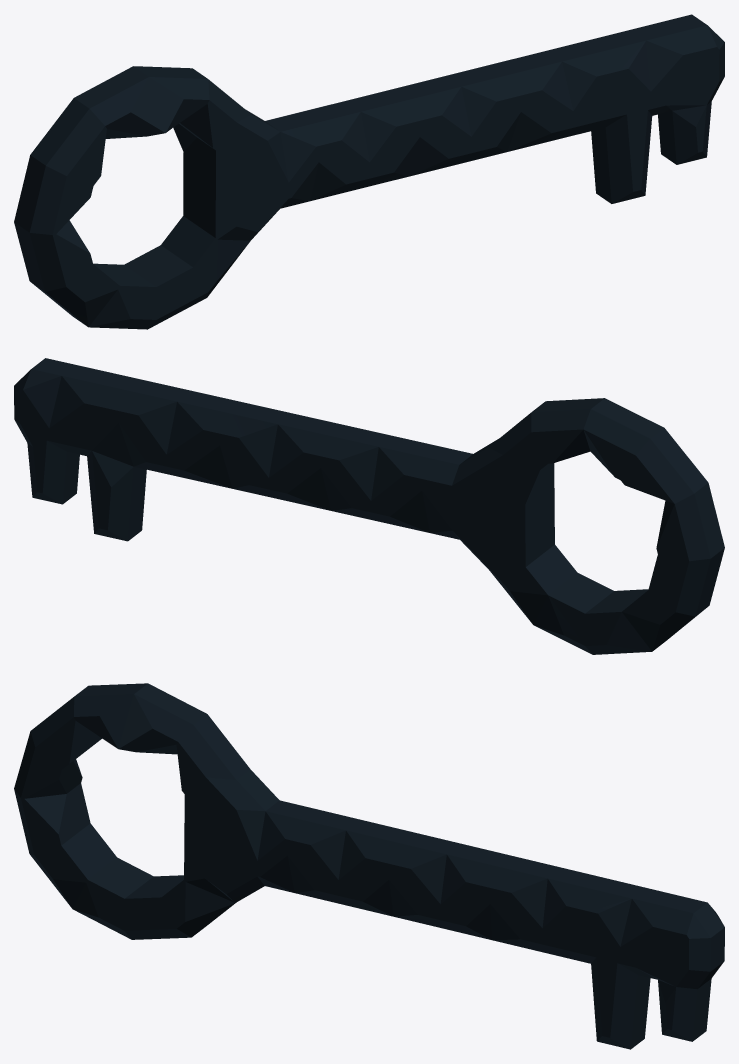
Rendered from black_key.glb.
3 views of the same model, one above another, from view 1: azimuth 30°, elevation 25°; view 2: azimuth 150°, elevation 25°; view 3: azimuth 330°, elevation 25° (orthographic). The views are drawn at different scales.
Parts seen in each view (by area): view 1: Circle.024; view 2: Circle.024; view 3: Circle.024.
Part boxes in pixels (x1,y1,x2,y2): Circle.024: (14, 14, 724, 329); Circle.024: (14, 358, 724, 654); Circle.024: (14, 683, 724, 1049).
Bounding box in the file's own units: 1.89 × 0.6456 × 0.2172.
Materials: 1 (1 with a texture image).
